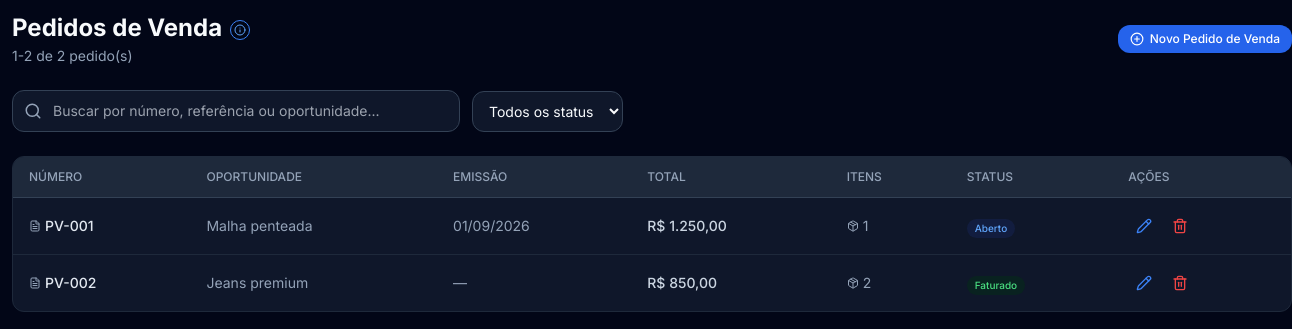
Scenario: PedidosVendaPage › busca com debounce e filtra
This screenshot has width=1292, height=329.
Expected: the text "PV-001" is shown, x1=29 y1=216 x2=94 y2=236
Type "PV-002" into the field with placeholder "Buscar por número, referência ou oportunidade..." at (236, 111), box x1=12 y1=90 x2=460 y2=132
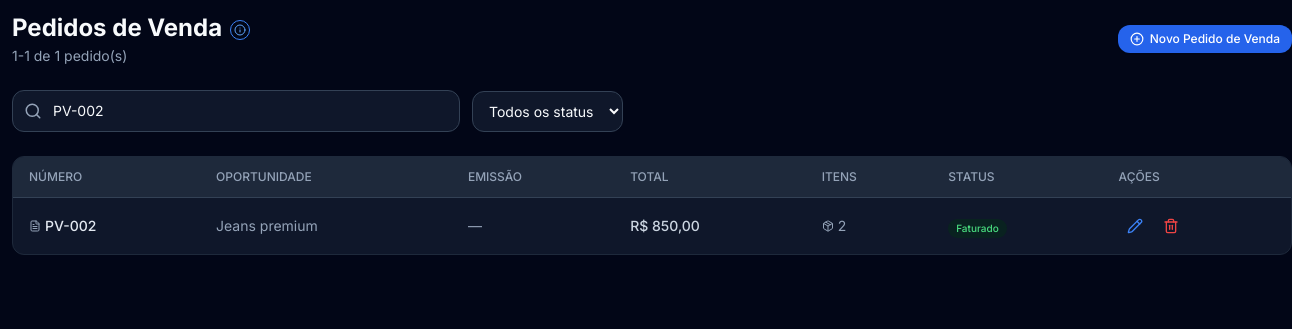
Expected: the text "PV-002" is shown, x1=29 y1=216 x2=96 y2=236
Expected: the text "PV-001" is gone
